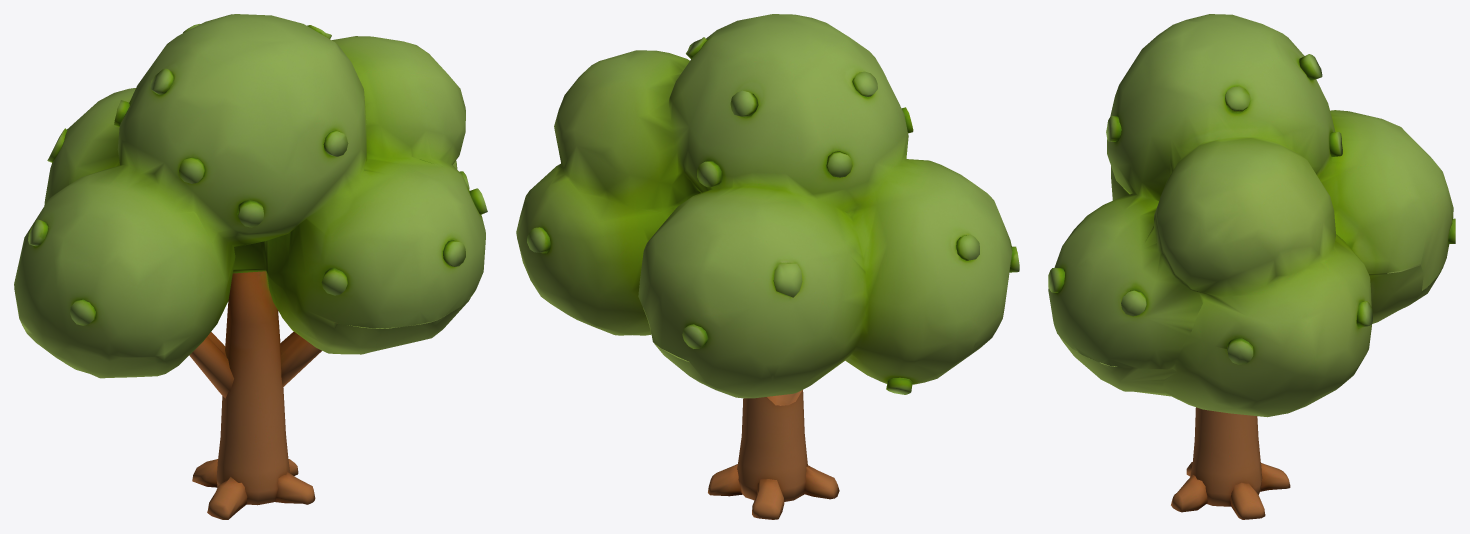
The model's file is tree-round.glb.
3 views of the same model, side by side, from view 1: azimuth 30°, elevation 25°; view 2: azimuth 150°, elevation 25°; view 3: azimuth 270°, elevation 25° (orthographic).
Visible parts, largest first — view 1: tripo_node_kodyurd-model-83____________________; view 2: tripo_node_kodyurd-model-83____________________; view 3: tripo_node_kodyurd-model-83____________________.
Part boxes in pixels (left/top/right/bottom): tripo_node_kodyurd-model-83____________________: left=14, top=14, right=487, bottom=519; tripo_node_kodyurd-model-83____________________: left=516, top=14, right=1019, bottom=519; tripo_node_kodyurd-model-83____________________: left=1048, top=14, right=1455, bottom=519.
Bounding box in the file's own units: 0.9941 × 0.998 × 0.7988.
Materials: 1 (1 with a texture image).
